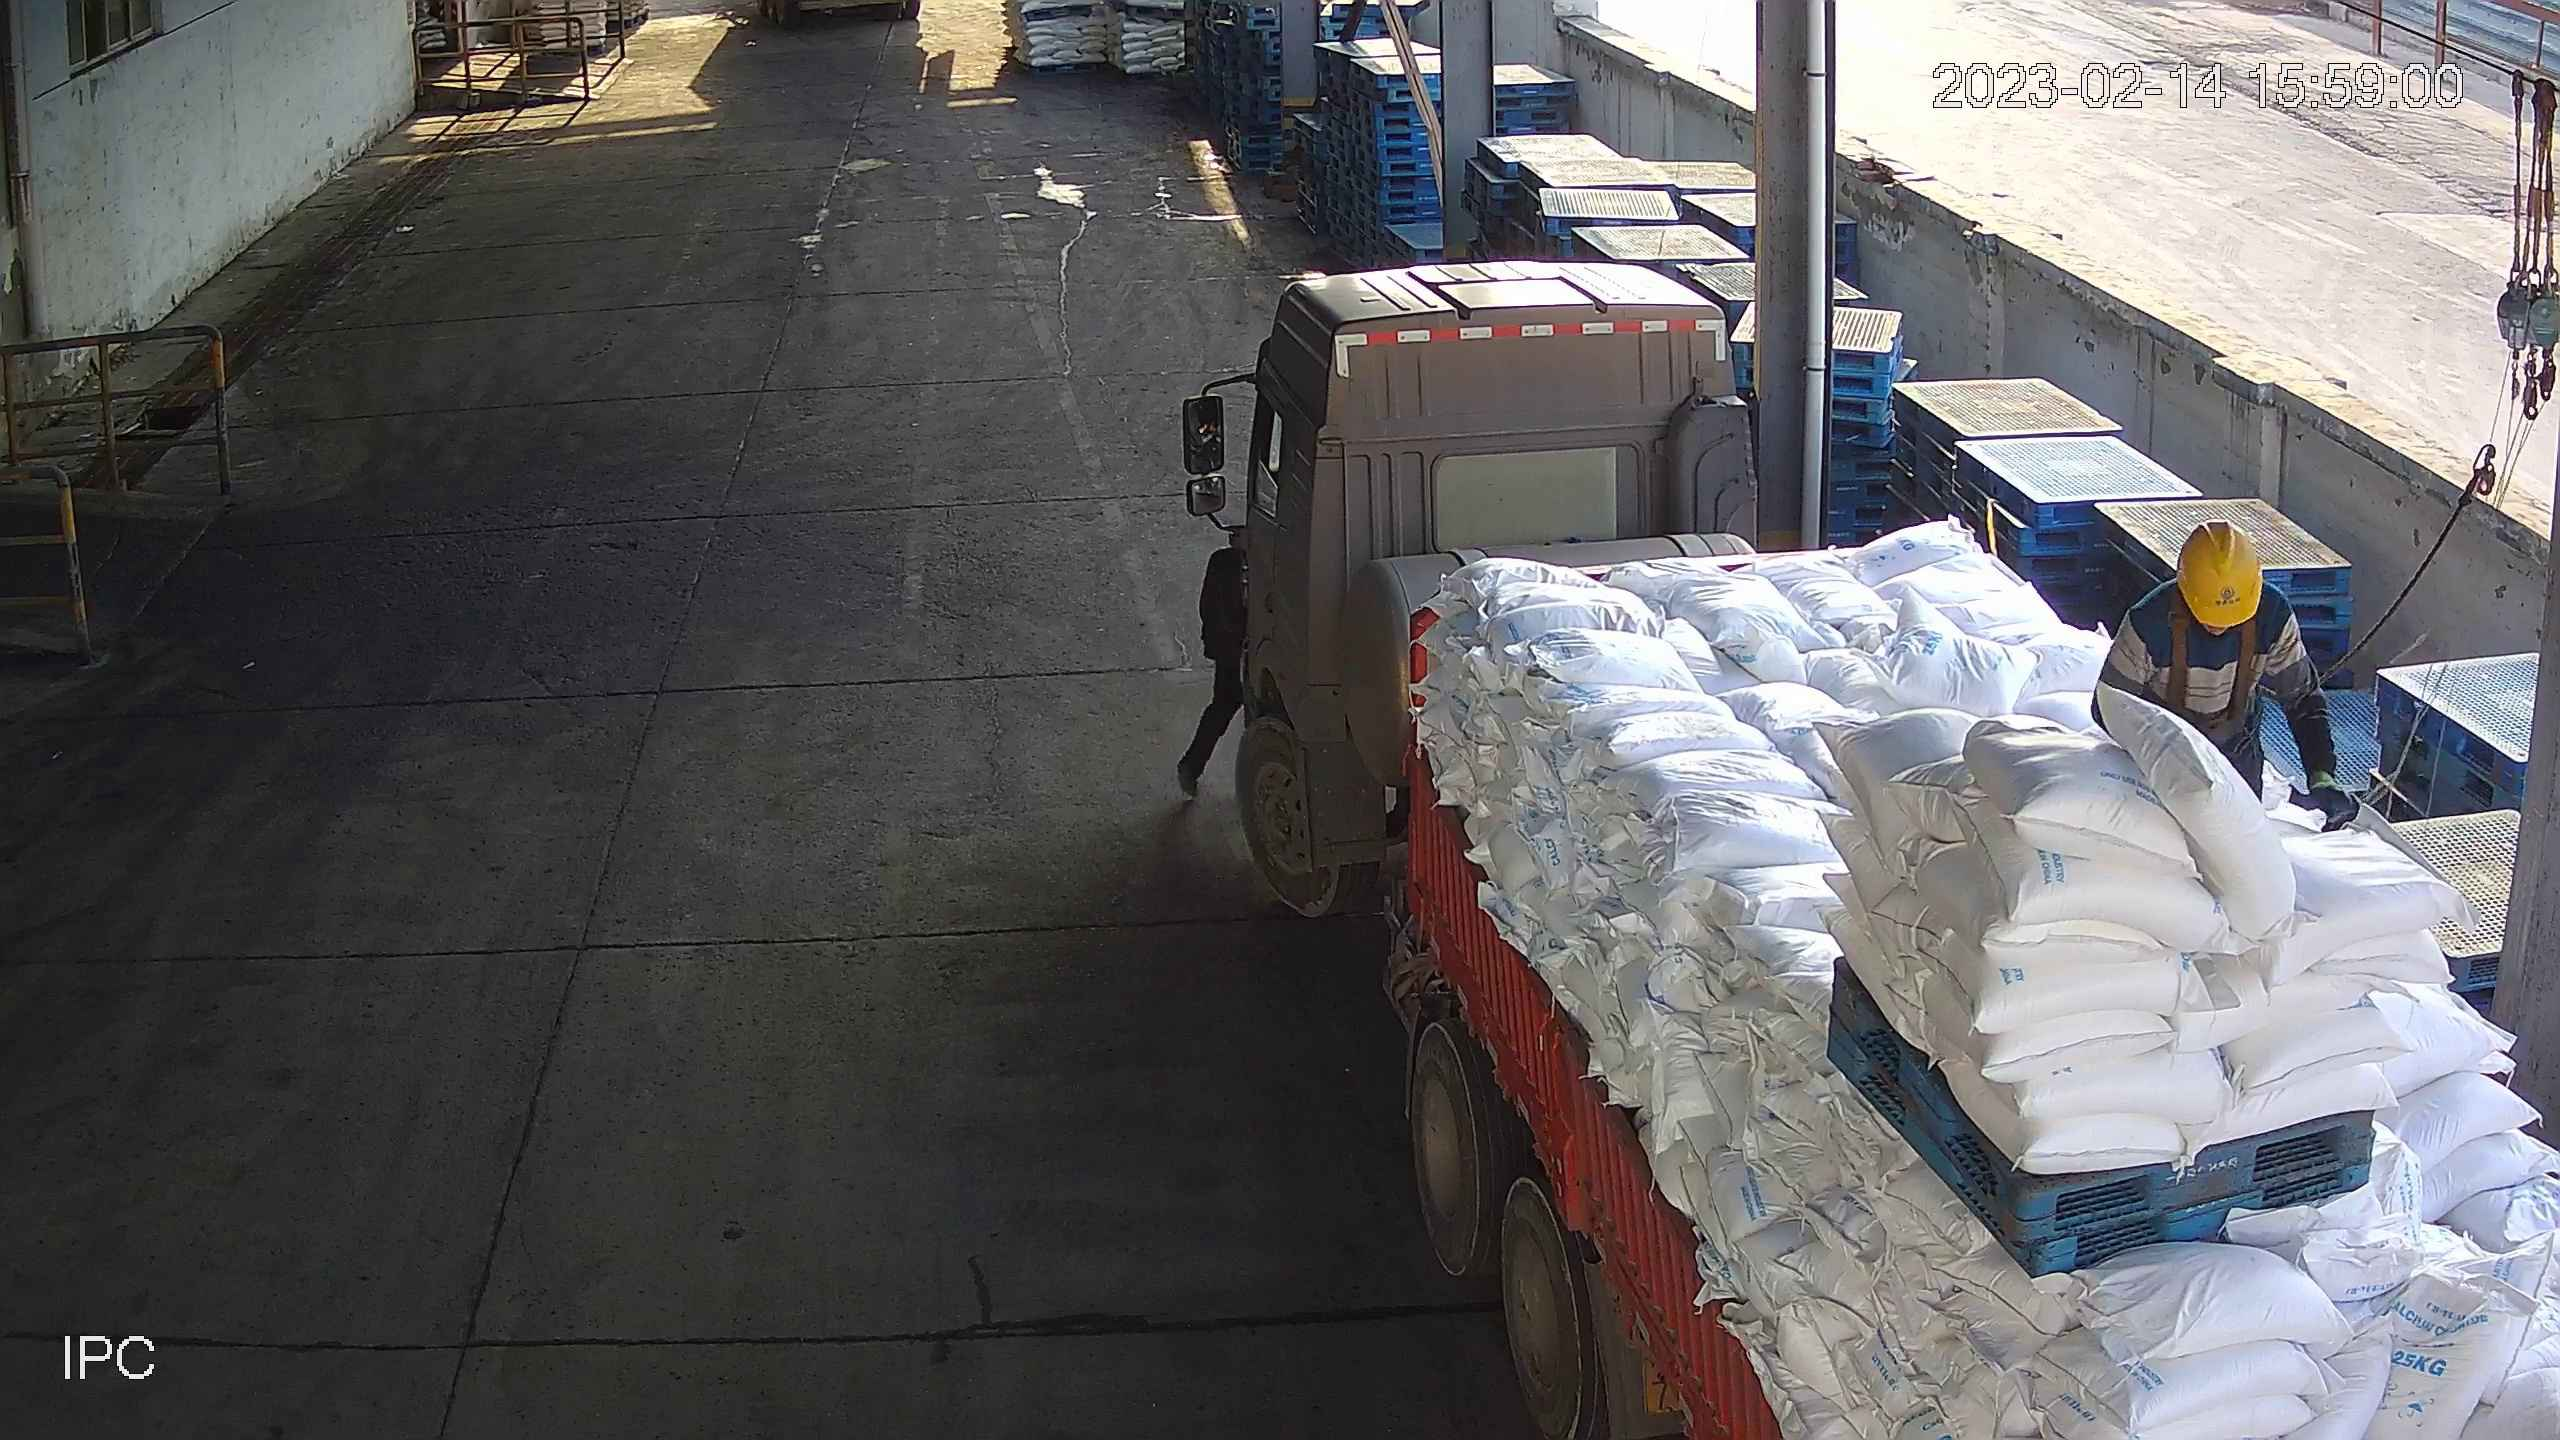belt: (2145, 606, 2279, 725)
head: (2091, 517, 2357, 832)
helmet: (2178, 518, 2264, 628)
people: (1178, 518, 1254, 813)
truck: (1179, 261, 2560, 1440)
